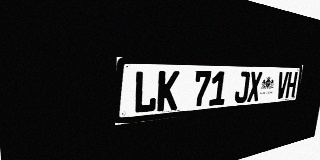1: (209, 71, 227, 106)
7: (192, 71, 212, 108)
H: (285, 72, 298, 98)
J: (234, 71, 250, 103)
K: (157, 71, 180, 112)
L: (133, 71, 158, 114)
V: (275, 72, 289, 99)
X: (247, 72, 262, 102)
